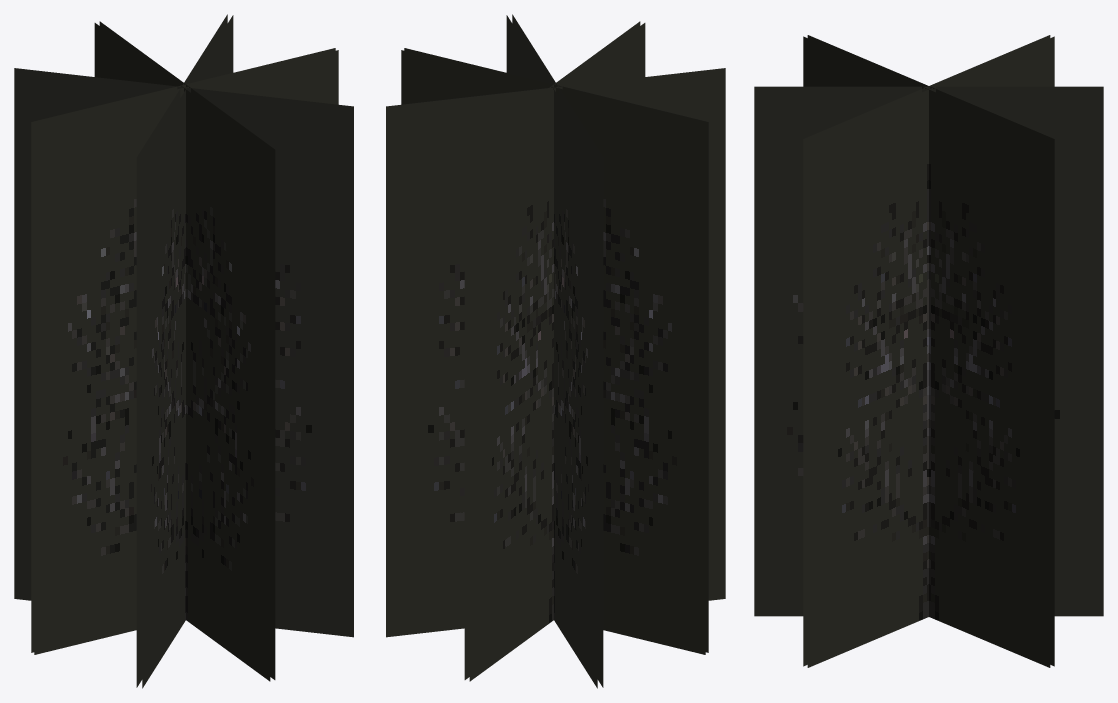
File: bush04_winter.glb
3 renders of one model, left to right at view 1: azimuth 30°, elevation 25°; view 2: azimuth 150°, elevation 25°; view 3: azimuth 270°, elevation 25°, orthographic.
Parts seen in each view (by area): view 1: bush04; view 2: bush04; view 3: bush04.
Boxes of the visible parts, <box> form: bush04: <box>14,14,353,688</box>; bush04: <box>386,14,725,688</box>; bush04: <box>754,35,1103,667</box>.
Bounding box in the file's own units: 0.9 × 1.5 × 0.9.
Materials: 1 (1 with a texture image).
